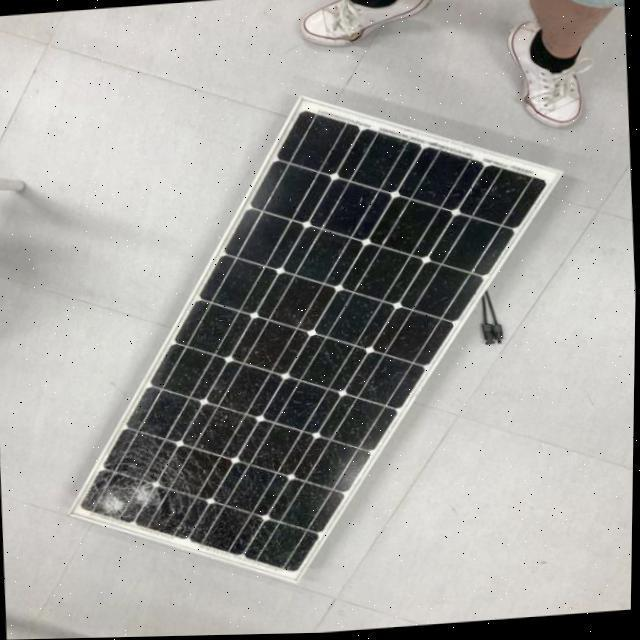Structural Damage: (82, 421, 236, 539)
